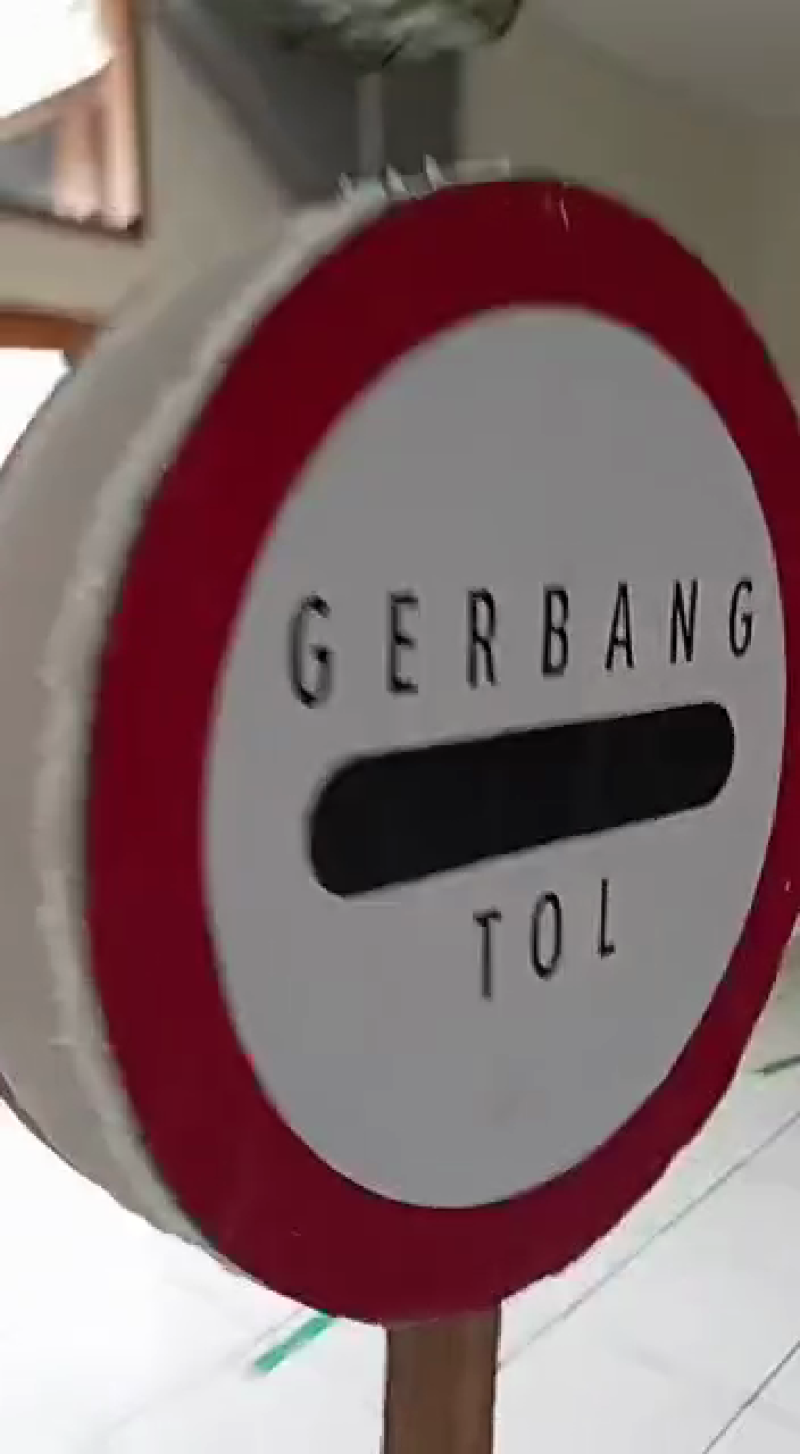gerbang tol: (26, 163, 800, 1327)
